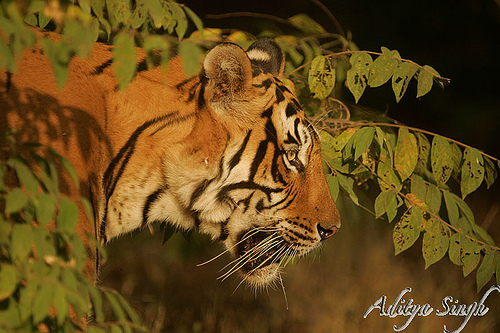Tigre: (12, 15, 359, 299)
